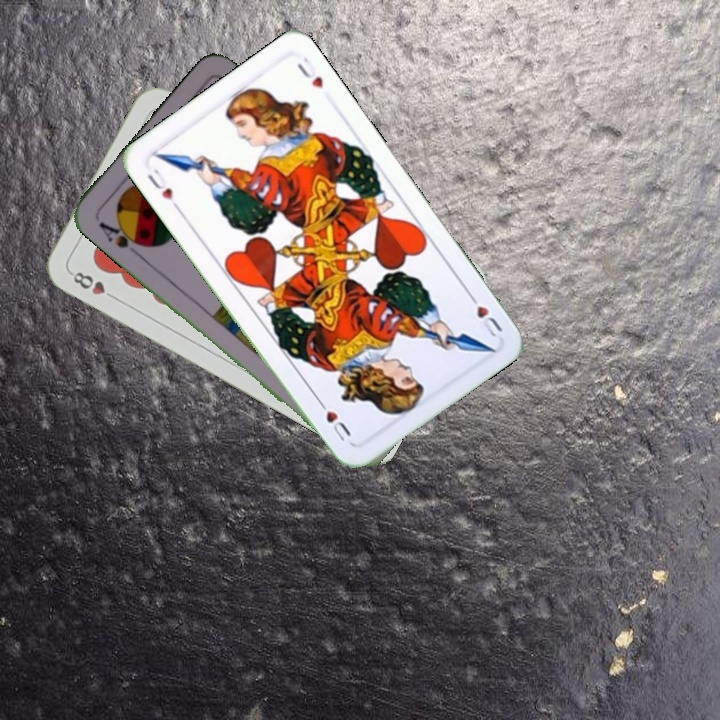H8: (66, 267, 120, 303)
HU: (463, 288, 506, 341), (143, 164, 182, 213)
SA: (94, 217, 148, 251)
